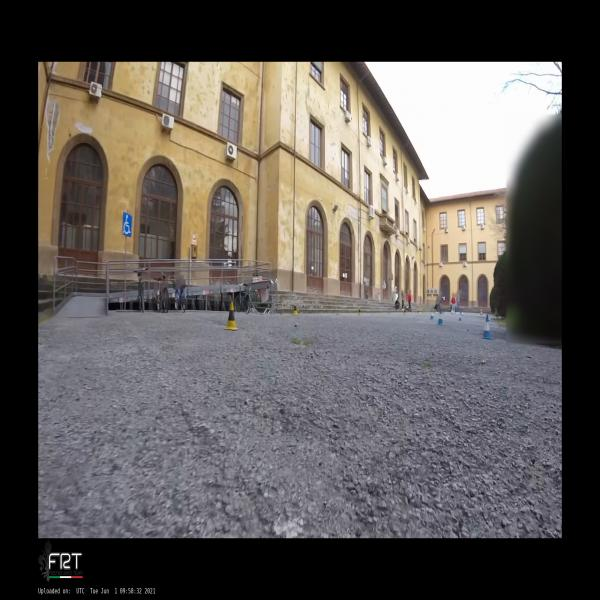blue_cone: (480, 314, 494, 340), (436, 310, 444, 326), (430, 310, 434, 320), (458, 312, 462, 321)
yellow_cone: (224, 301, 238, 331), (291, 302, 298, 316), (358, 307, 361, 315), (404, 309, 406, 315)
